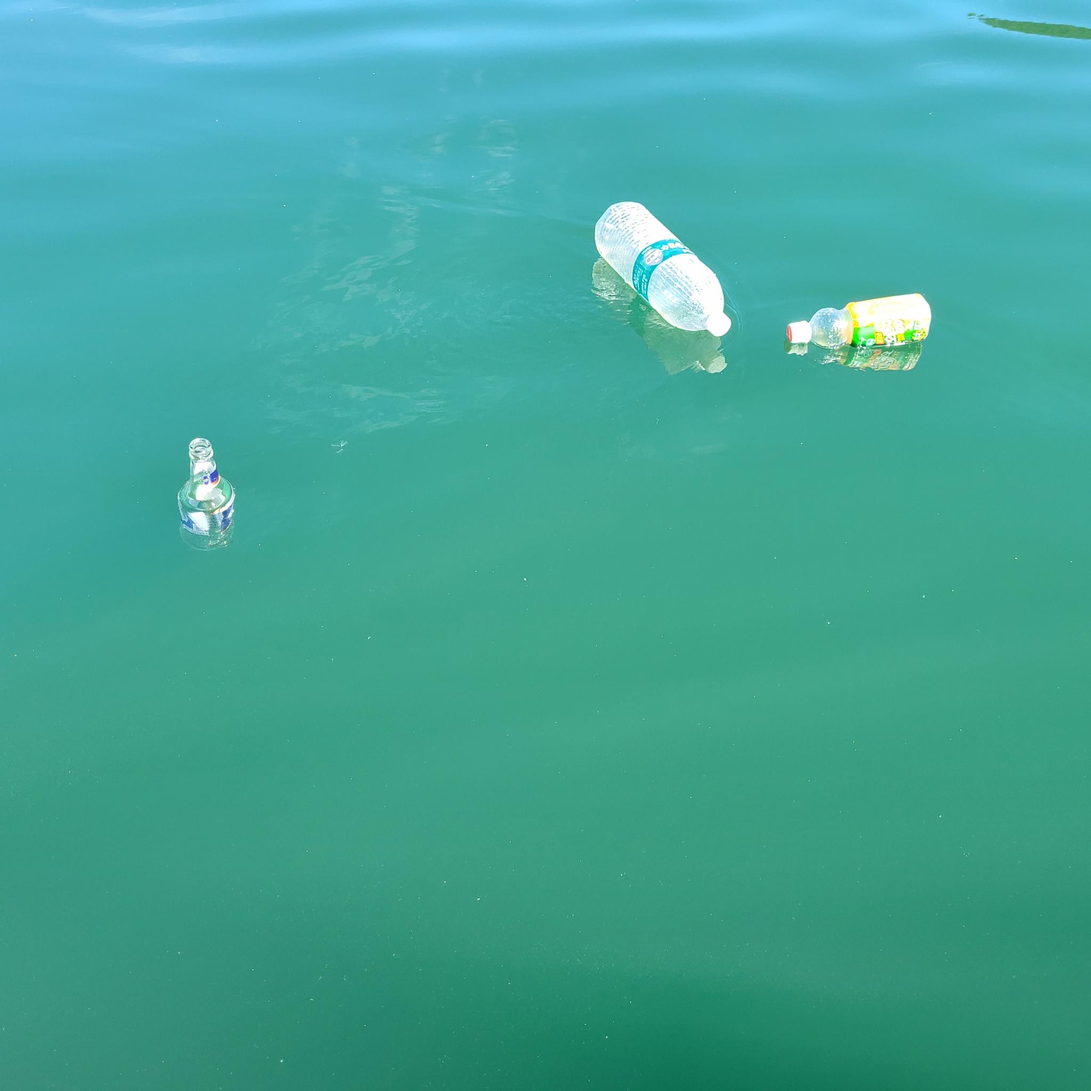sampah_terapung: (595, 202, 732, 337), (787, 294, 932, 348), (178, 438, 236, 537)
